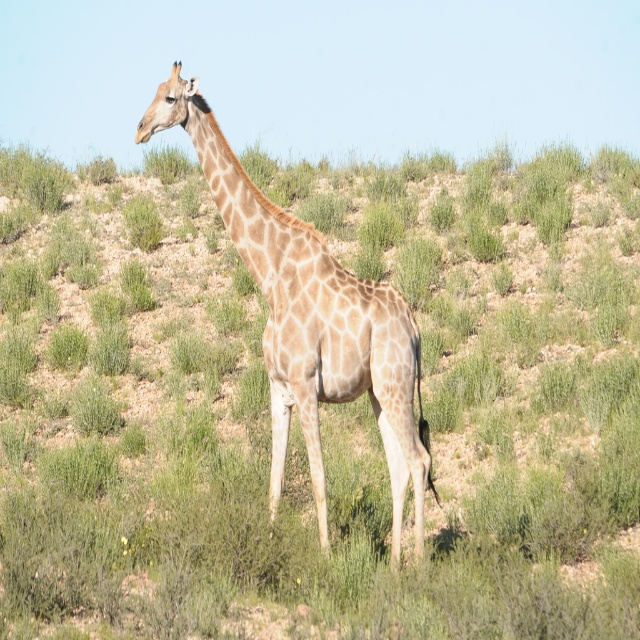Giraffe: (135, 60, 443, 574)
